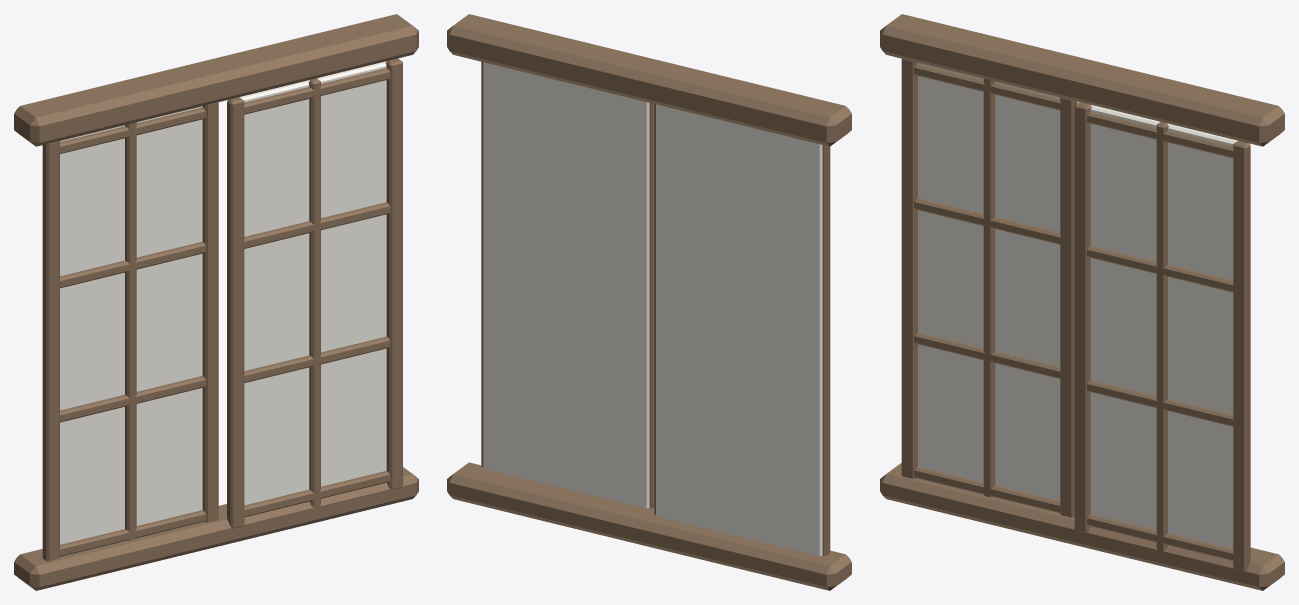
Rendered from feudal-japan-castle-town-shoji-screen-e876a9ac__26304.glb.
3 renders of one model, left to right at view 1: azimuth 30°, elevation 25°; view 2: azimuth 150°, elevation 25°; view 3: azimuth 330°, elevation 25°, orthographic.
Visible parts, largest first — view 1: shoji-screen; view 2: shoji-screen; view 3: shoji-screen.
Boxes of the visible parts, x1,y1,x2,y2 form: shoji-screen: (14, 14, 418, 590); shoji-screen: (447, 14, 851, 590); shoji-screen: (880, 14, 1284, 590).
Bounding box in the file's own units: 1.96 × 2.28 × 0.2048.
